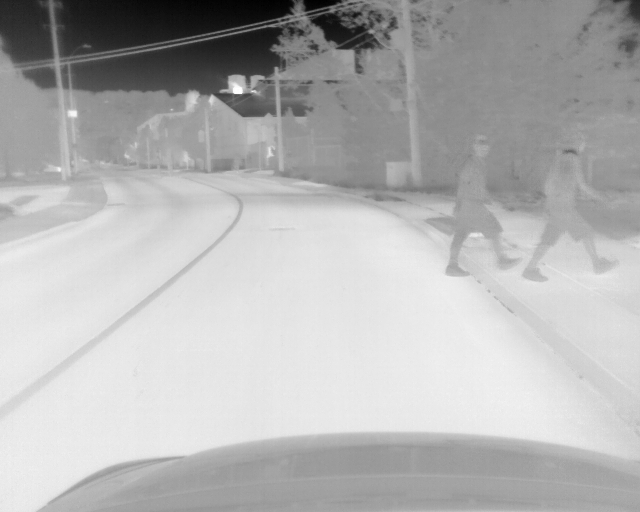people: (521, 134, 616, 284), (443, 133, 519, 279)
